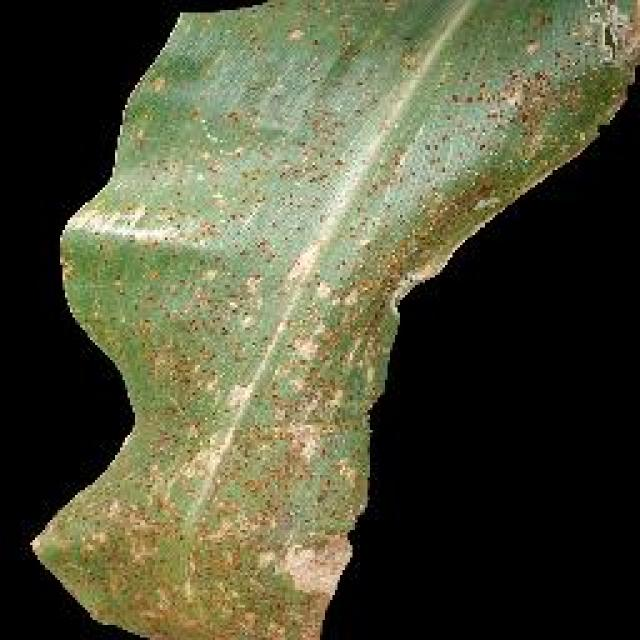Corn Common Rust: (136, 111, 472, 626)
